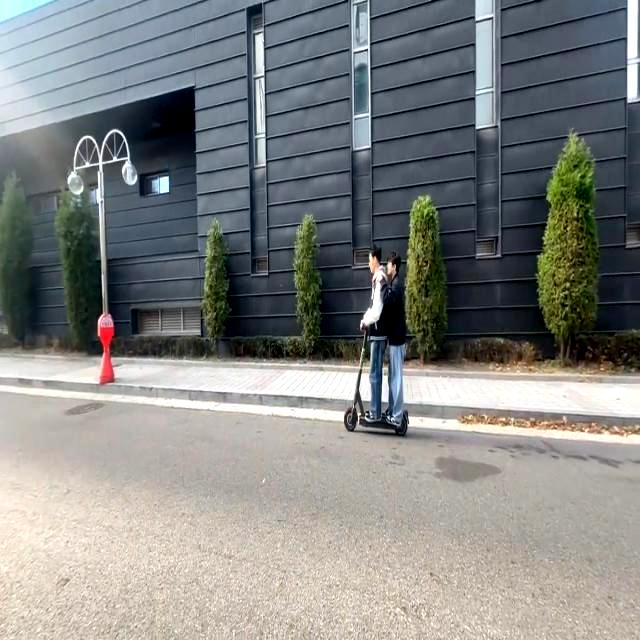bare_head: (363, 241, 381, 276), (384, 249, 405, 277)
human: (357, 245, 384, 422), (382, 248, 408, 425)
kickboard: (339, 401, 413, 440)
